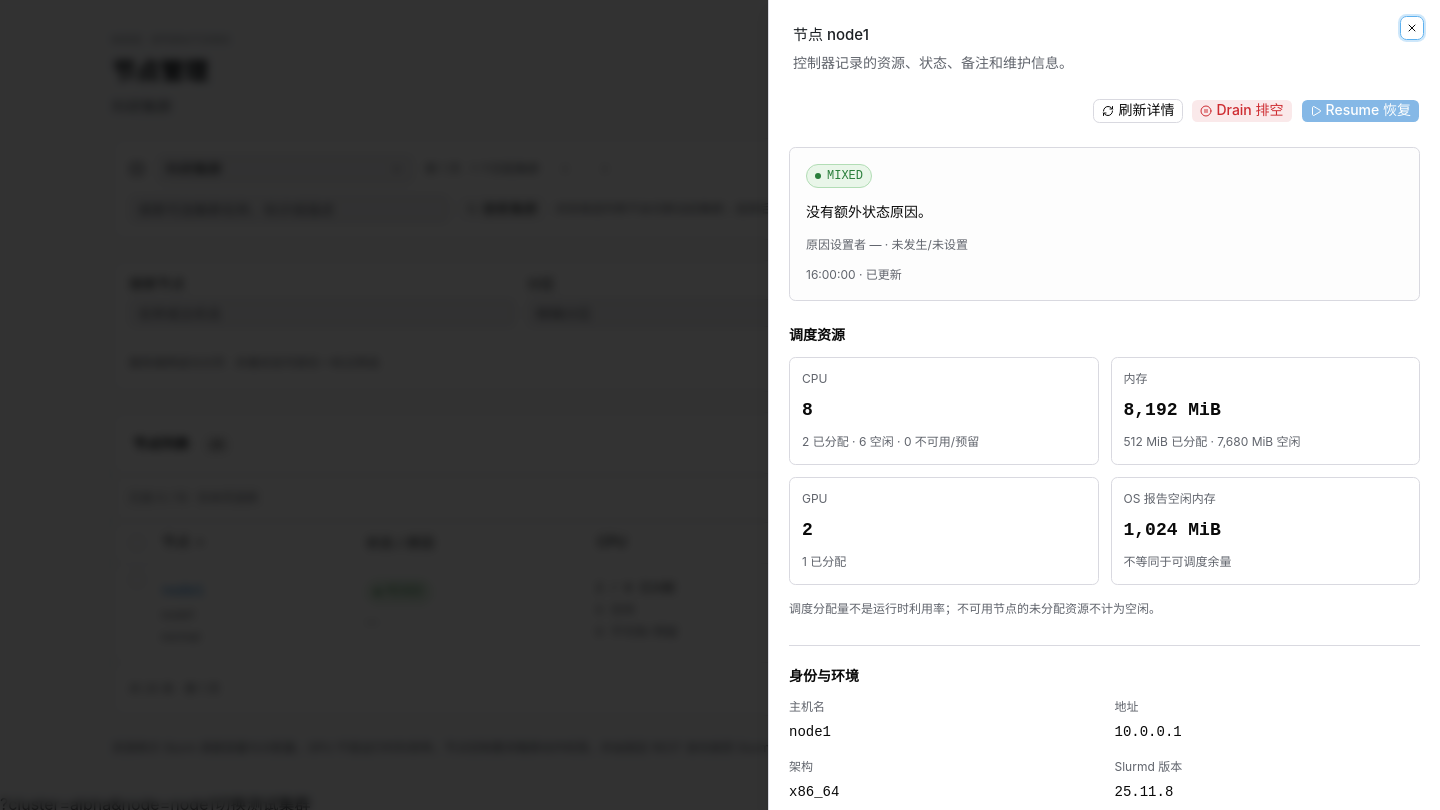
Scenario: 详情显示真实备注、硬件和资源，控制确认层与详情不重叠
The width and height of the screenshot is (1440, 810).
expect the heading "节点 node1" is shown: met, box [793,25,869,44]
expect the text "x86_64" is shown: met, box [789,784,839,800]
Click the button "Drain 排空" at {"x": 1242, "y": 111}, box [1191,99,1292,123]
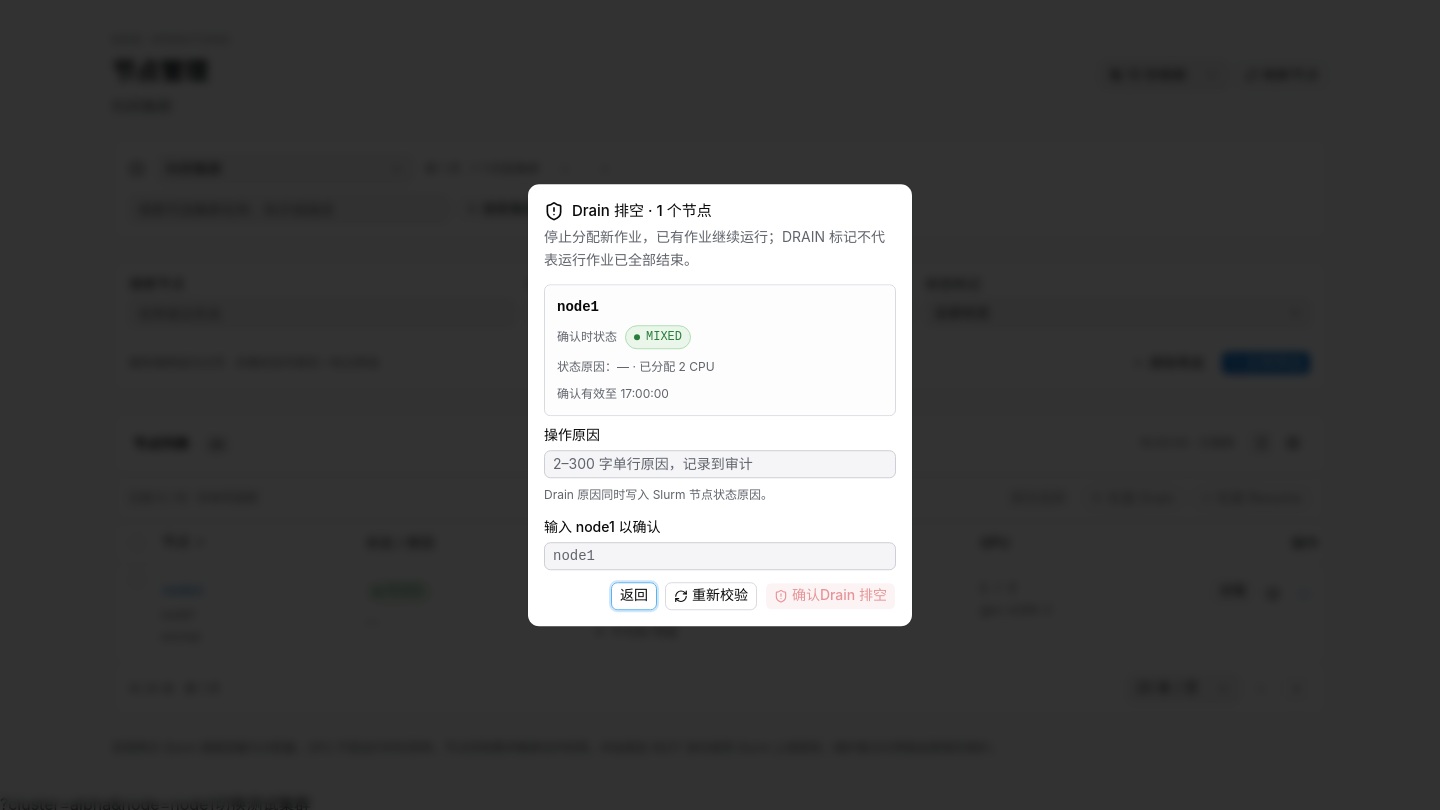
expect the heading "Drain 排空 · 1 个节点" is shown: met, box [544,200,712,222]
expect the heading "节点 node1" is gone: met
expect the field labelled "操作原因" is shown: met, box [544,450,896,478]
